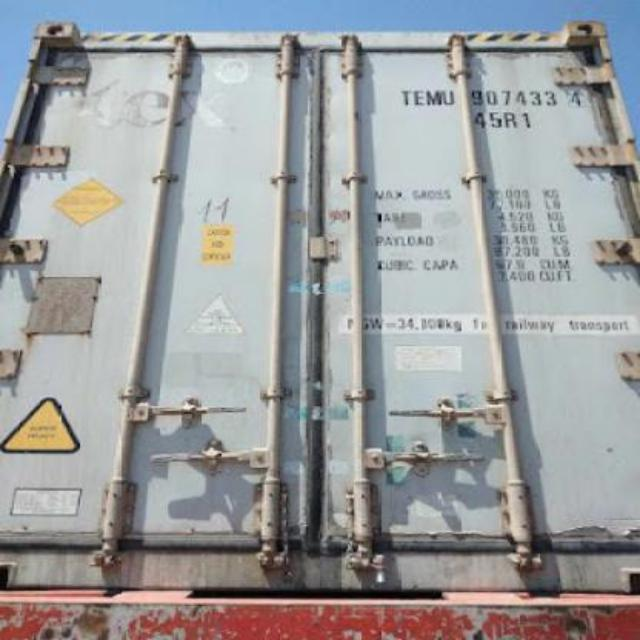0: (486, 84, 499, 108)
3: (542, 80, 560, 110), (530, 80, 542, 110)
4: (566, 85, 584, 109), (516, 88, 528, 108)
7: (498, 82, 514, 108)
9: (471, 84, 484, 108)
E: (414, 88, 424, 110)
M: (424, 85, 440, 109)
T: (396, 82, 414, 114)
U: (440, 84, 456, 108)
